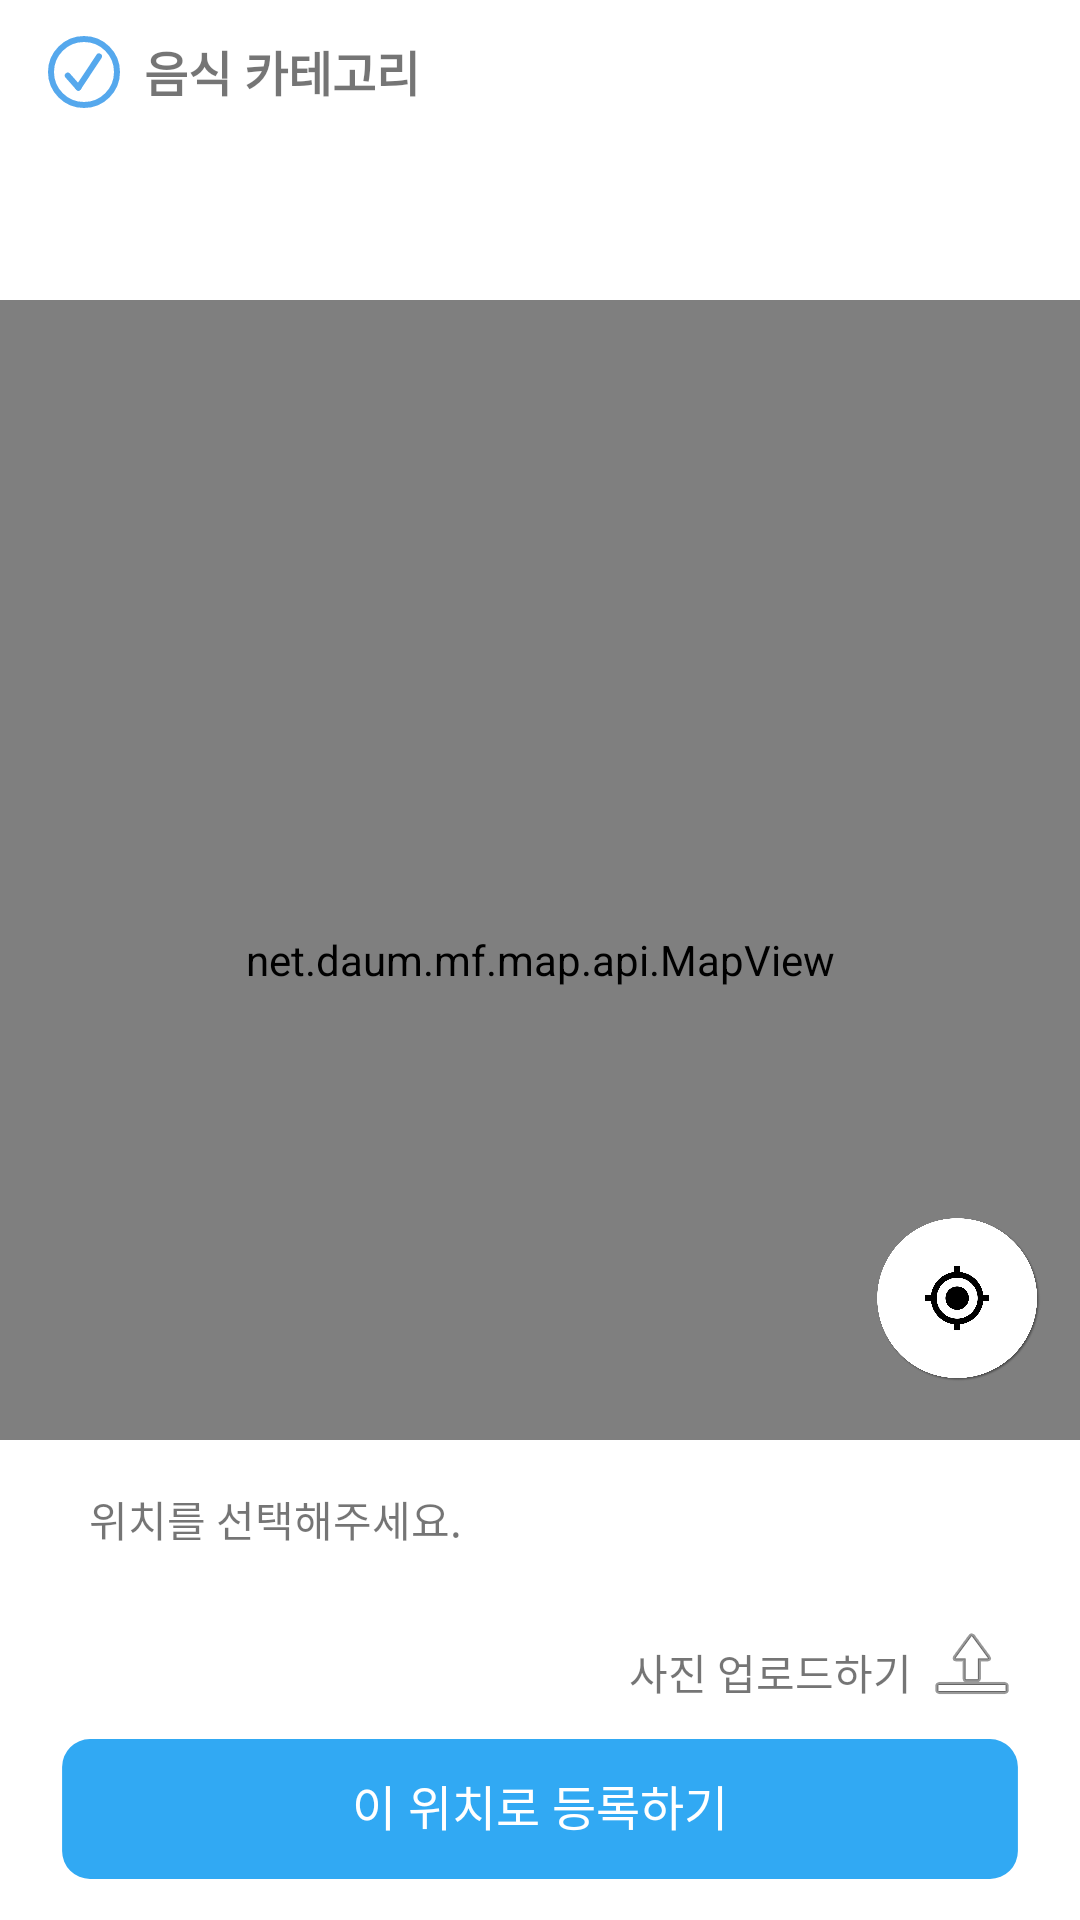

Named icons in this screenshot (1080×1920) and their bounding boxes, (x1, y1, x2, y2):
check: (48, 36, 120, 108)
mylocation: (877, 1218, 1038, 1379)
upload: (935, 1633, 1009, 1694)
